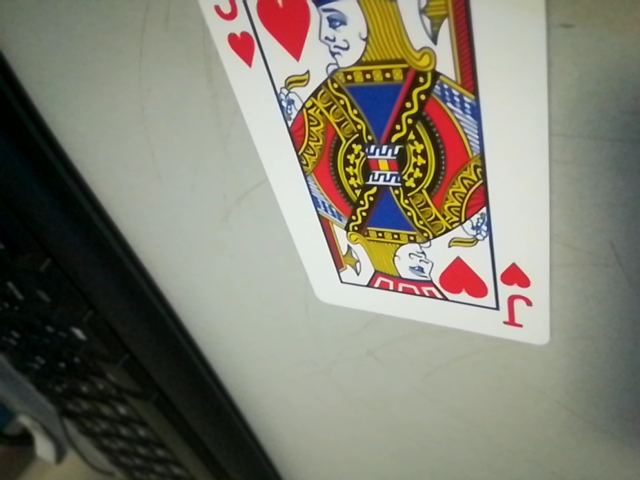hx j: (487, 259, 546, 336)
